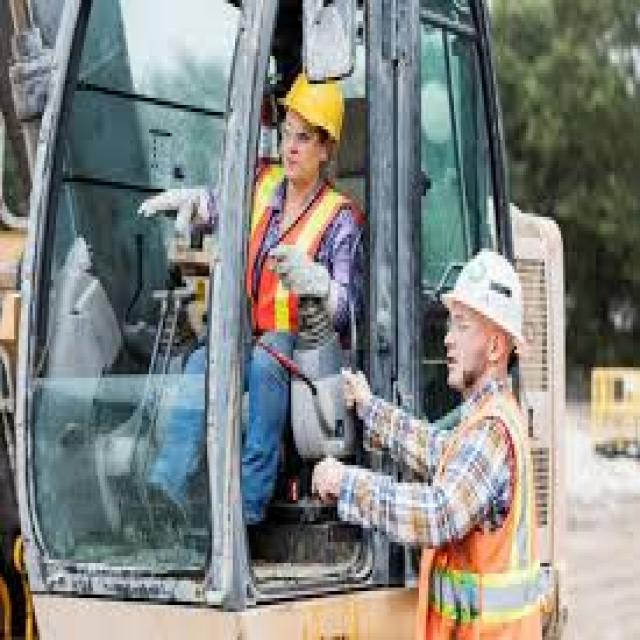Reflective-Jacket: (407, 381, 547, 640), (235, 172, 368, 360)
Safety-Helmet: (438, 238, 535, 353), (275, 63, 356, 157)
